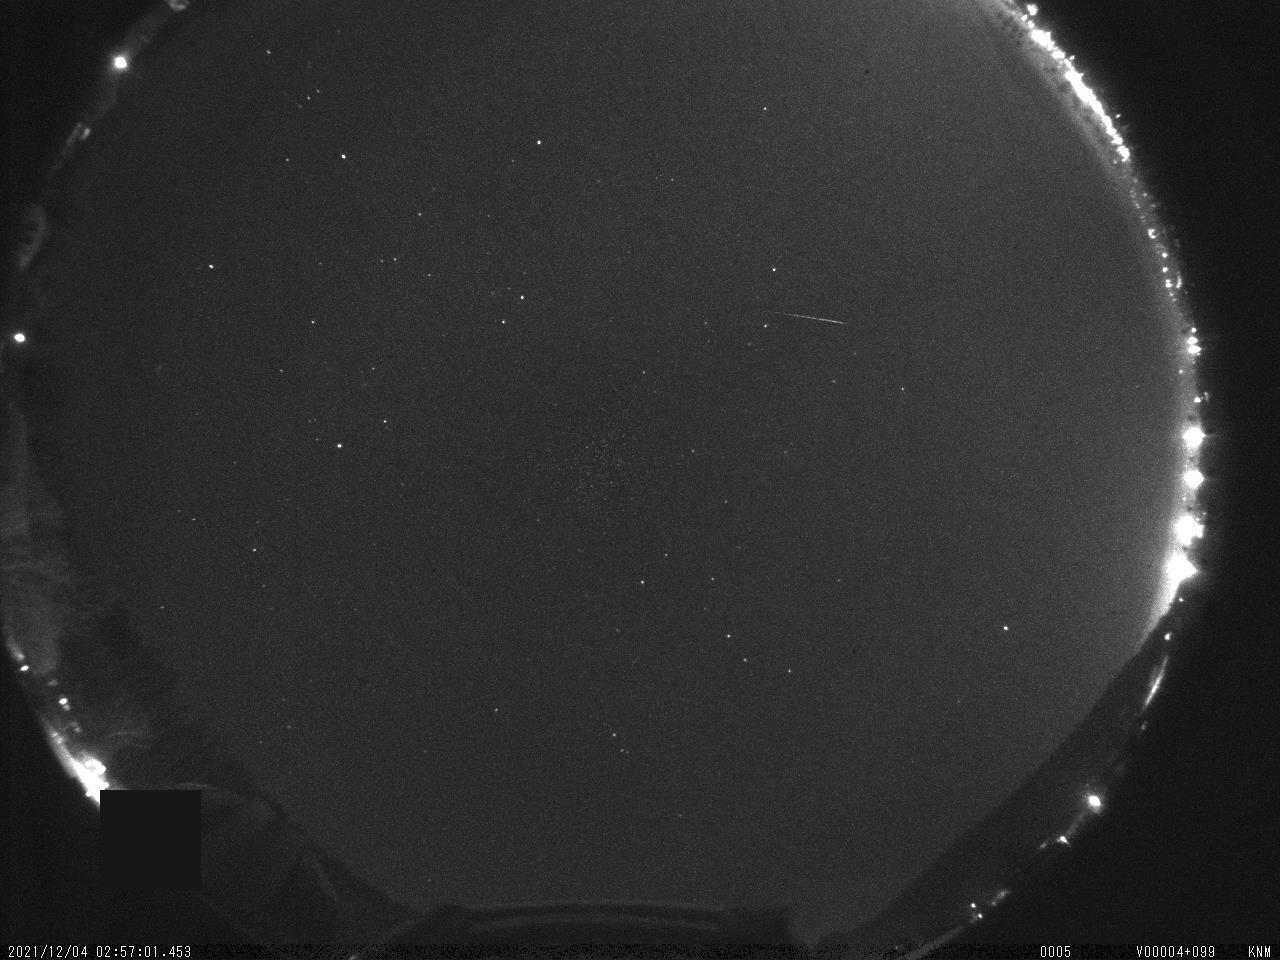Meteor: (765, 302, 854, 334)
